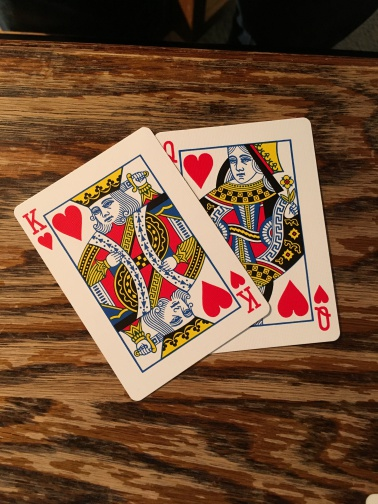king: (14, 126, 270, 402)
queen: (154, 117, 342, 346)
